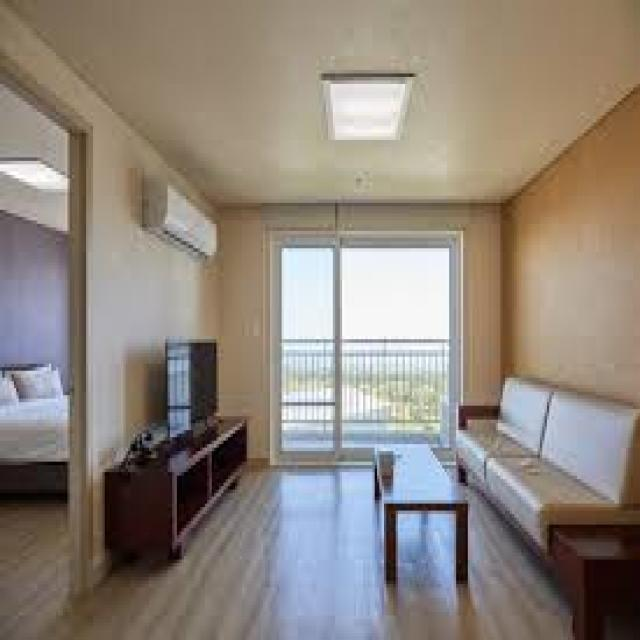Sofa: (461, 378, 637, 554)
Table: (367, 444, 472, 588)
tv: (164, 334, 222, 425)
window: (275, 232, 454, 434)
